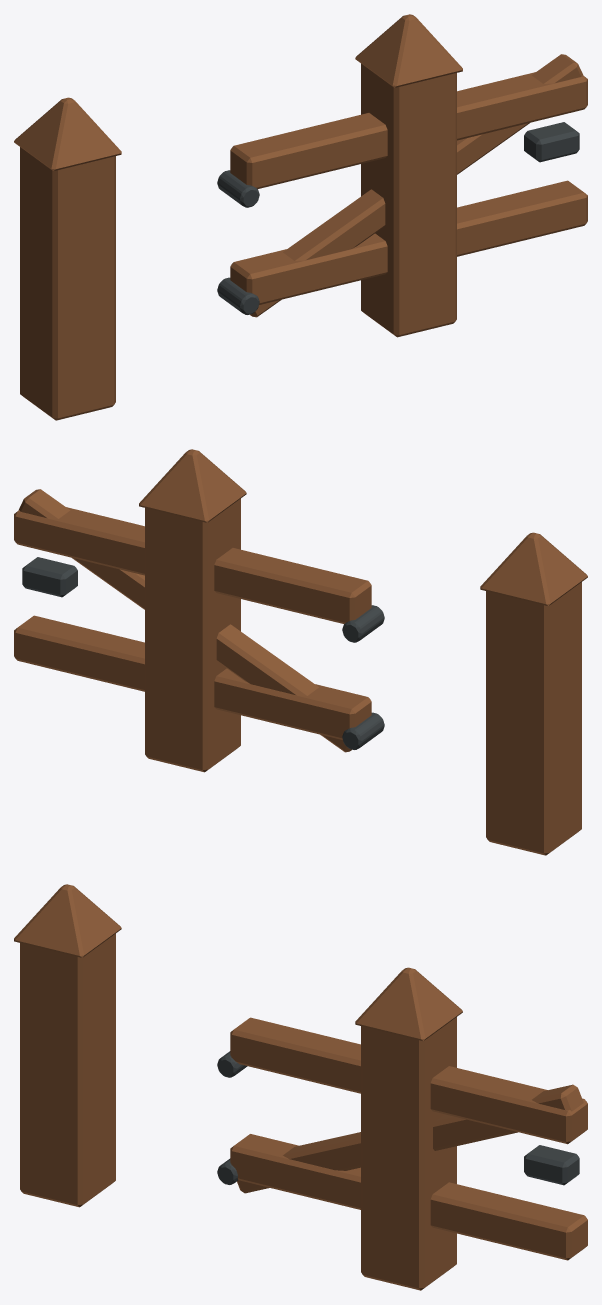
Rendered from FenceGate.glb.
The picture shows the model from 3 angles, top to bottom: view 1: azimuth 30°, elevation 25°; view 2: azimuth 150°, elevation 25°; view 3: azimuth 330°, elevation 25°; orthographic projection.
Parts seen in each view (by area): view 1: FenceGate_Posts, FenceGate_Leaf; view 2: FenceGate_Posts, FenceGate_Leaf; view 3: FenceGate_Posts, FenceGate_Leaf.
Part boxes in pixels (x1=…): FenceGate_Posts: x1=14, y1=14, x2=462, y2=420; FenceGate_Leaf: x1=217, y1=54, x2=587, y2=317; FenceGate_Posts: x1=139, y1=449, x2=587, y2=855; FenceGate_Leaf: x1=14, y1=489, x2=384, y2=752; FenceGate_Posts: x1=14, y1=884, x2=462, y2=1290; FenceGate_Leaf: x1=217, y1=1017, x2=587, y2=1260.
Size of the model in its own units: 1.38 by 0.73 by 0.1771.
